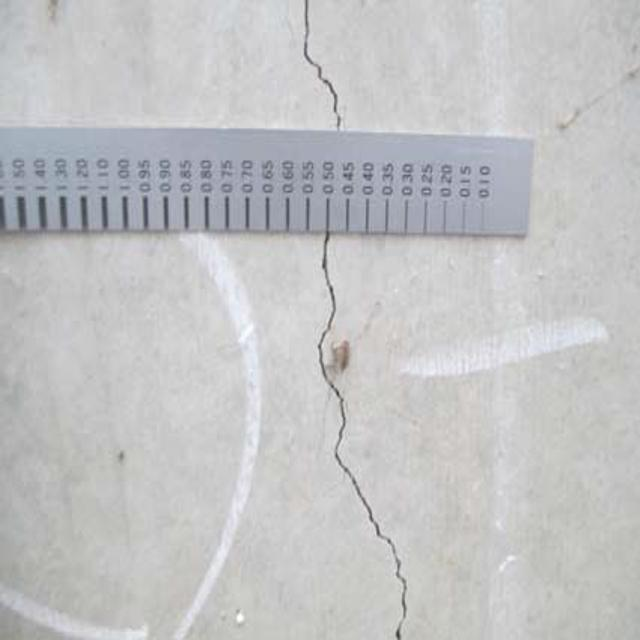crack: (313, 234, 414, 640), (294, 3, 349, 130)
